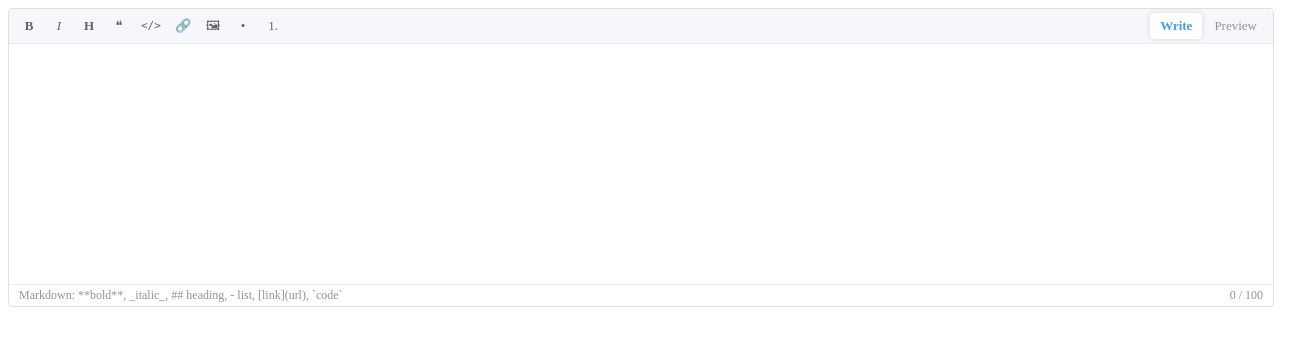
Test case: MarkdownEditor › shows the empty-preview hint and the character count
Expected: the text with class "md-editor__count" reads "0 / 100", [1230,288,1263,303]
Click the tab with class "md-editor__mode" showing "Preview" at (1236, 26), box [1204,13,1267,39]
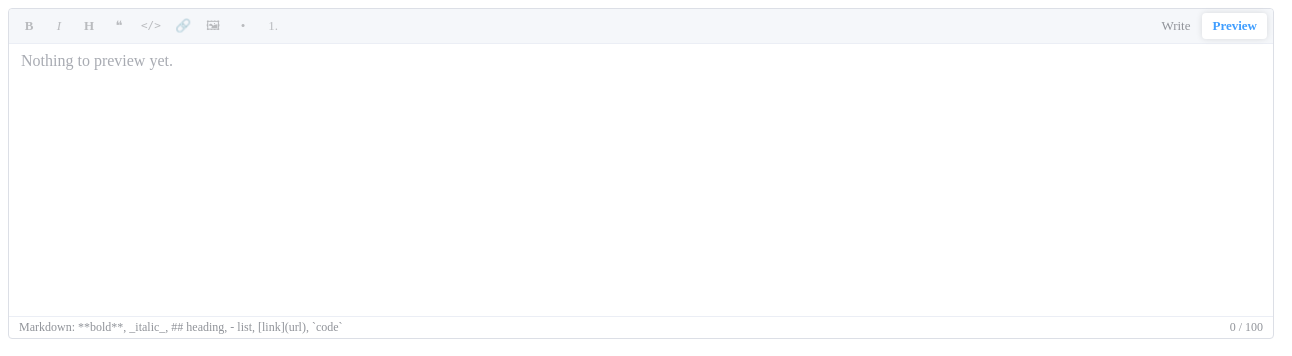
Expected: the text "Nothing to preview yet." is shown, [21,52,173,69]
